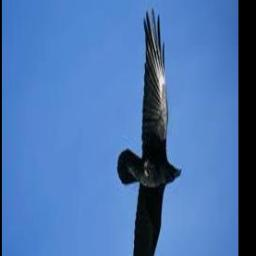Crow: (116, 11, 182, 256)
